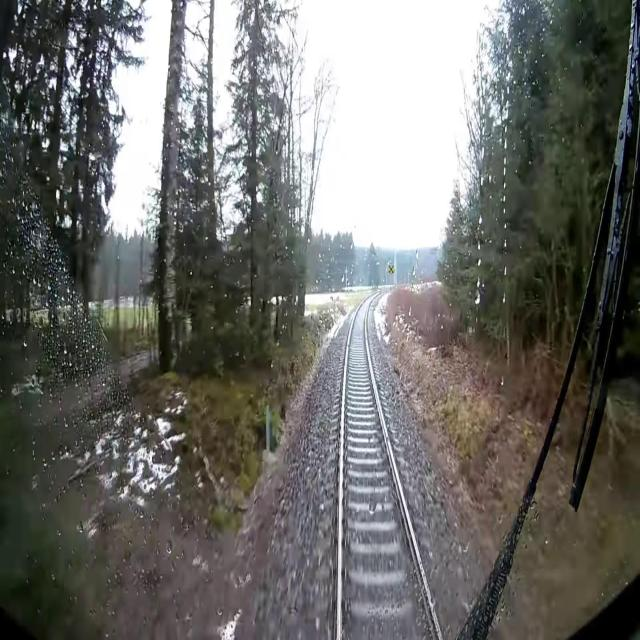rail-track: (342, 297, 438, 639)
